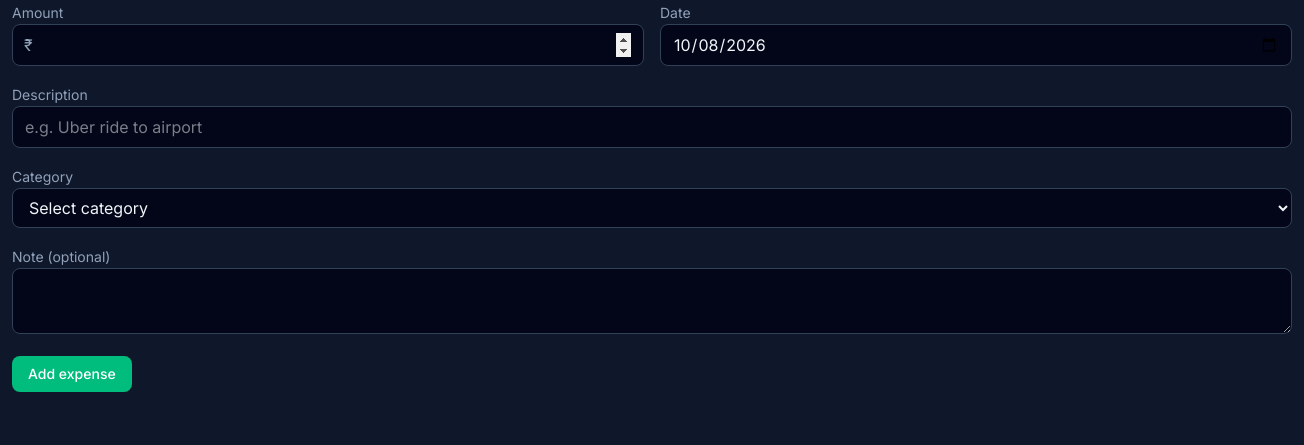
Scenario: ExpenseForm › tcE06_showsValidationErrorWhenCategoryNotSelected
The width and height of the screenshot is (1304, 445).
Expected: the dropdown labelled "Category" is shown, [12, 188, 1292, 228]
In the number field labelled "Amount ₹": coordinates (328, 45) [12, 24, 644, 66], type "12.50"
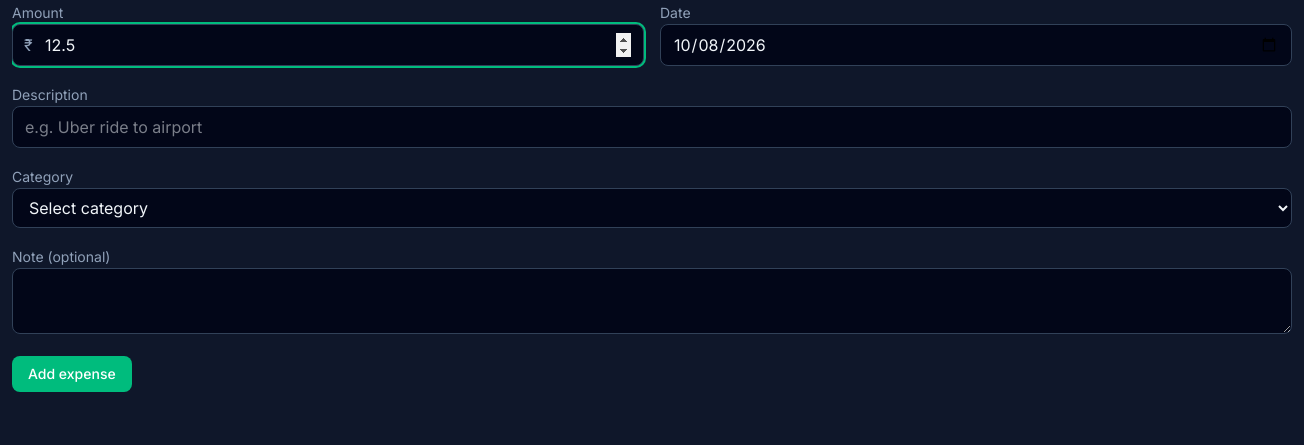
In the field labelled "Description": coordinates (652, 127) [12, 106, 1292, 148], type "ab"
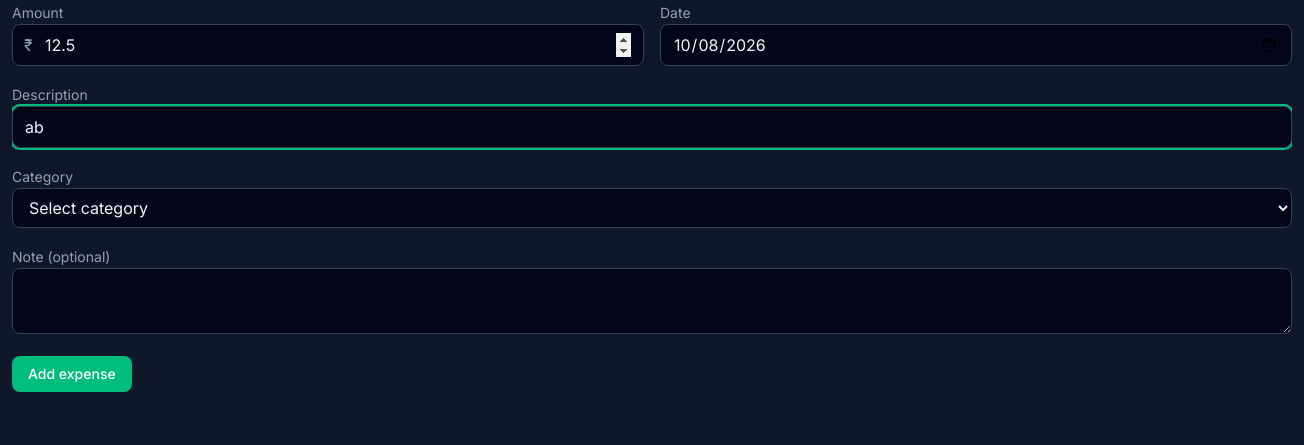
Submit the form "Add expense"
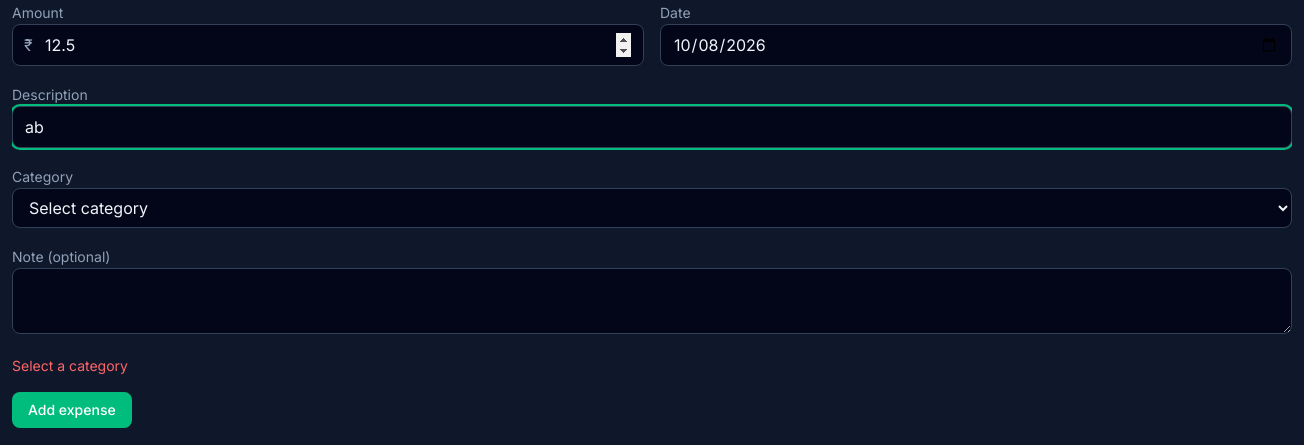
Now the message reads "Select a category", box [12, 357, 128, 374]
